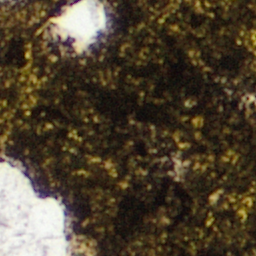cement_matrix: (0, 0, 255, 255)
gravel_crushed_stones: (0, 158, 90, 255), (48, 0, 108, 52)
